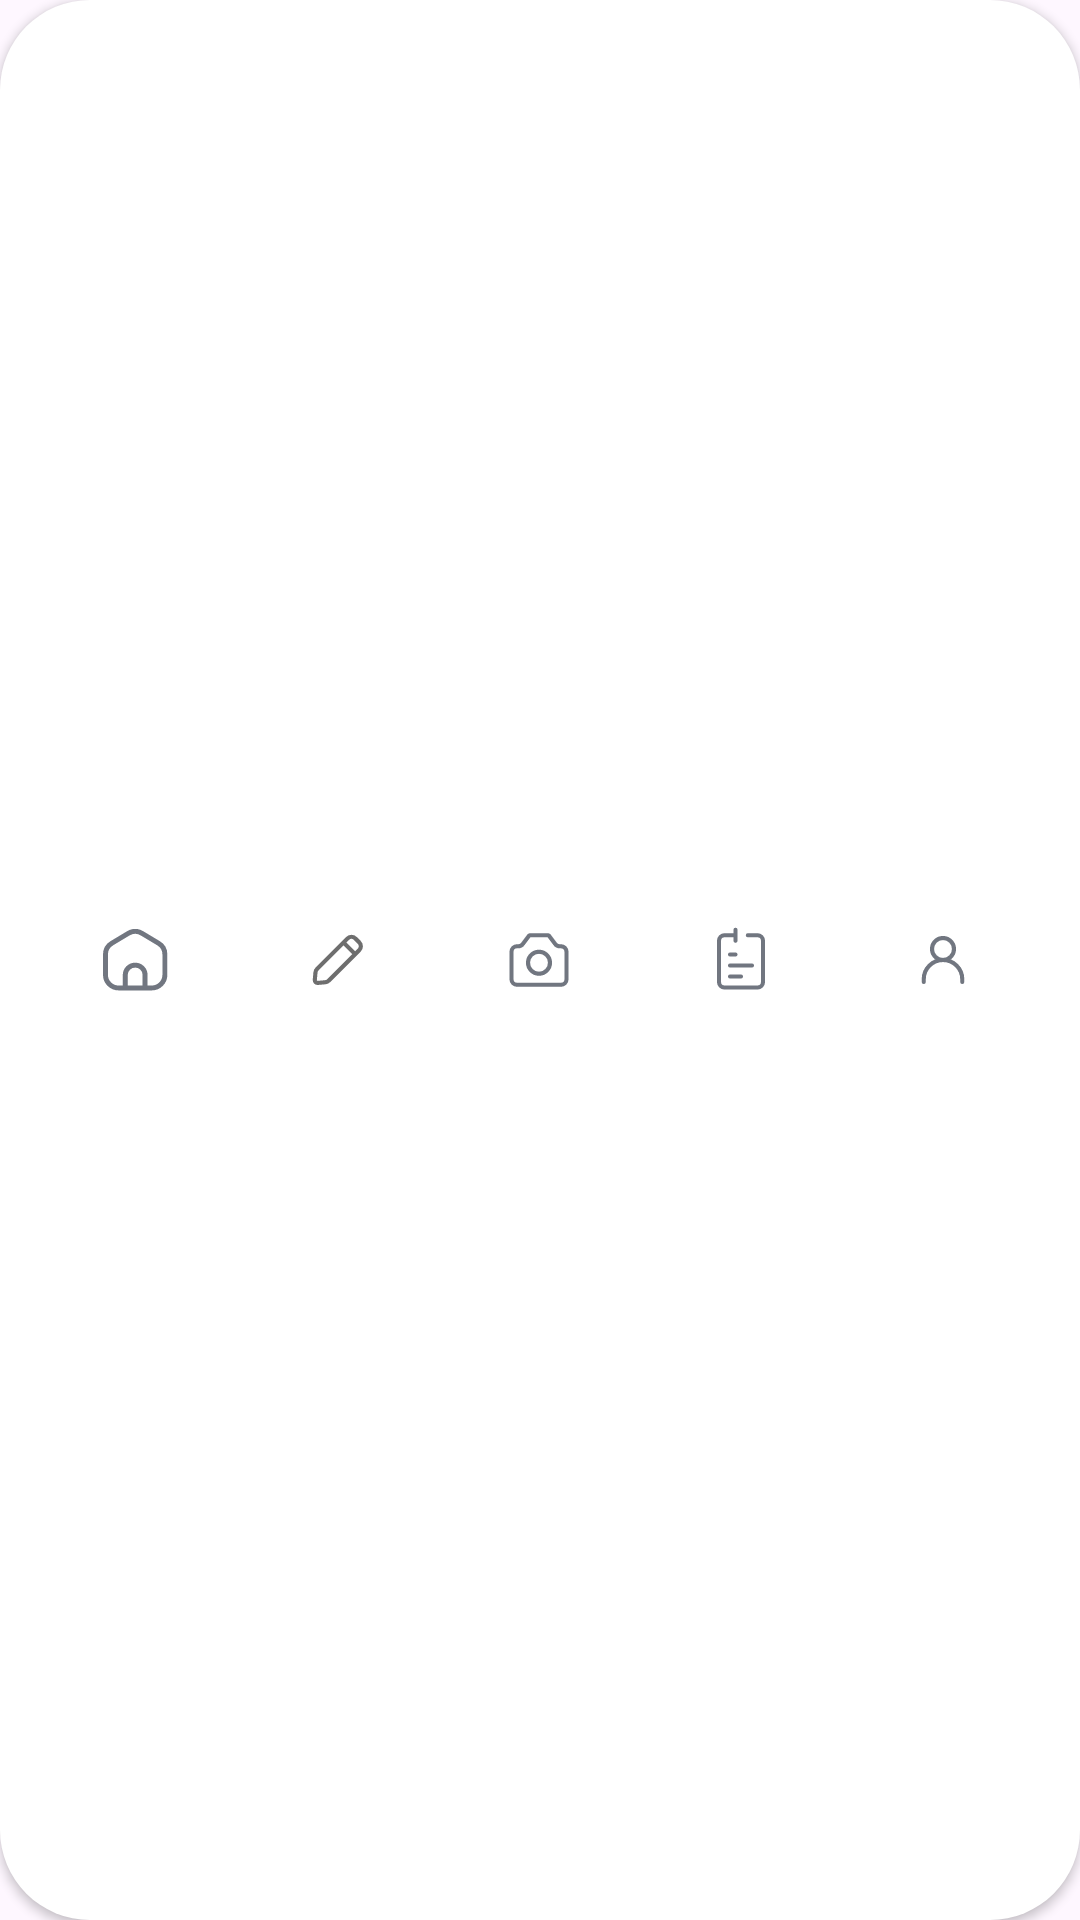

Where to tap for icons on this 1080px×1920px app screen, as [x,y]:
camera: [539,960]
history: [741,958]
home: [135,960]
profile: [943,960]
record: [337,959]
